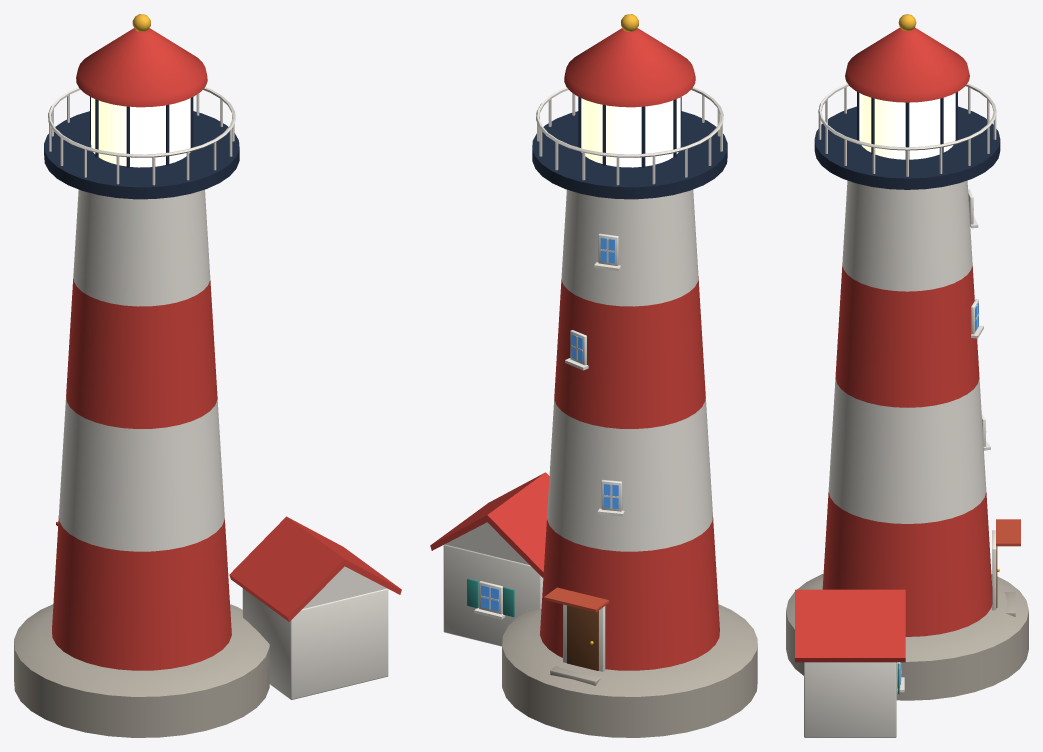
Rendered from leuchtturm.glb.
3 views of the same model, side by side, from view 1: azimuth 30°, elevation 25°; view 2: azimuth 150°, elevation 25°; view 3: azimuth 270°, elevation 25° (orthographic). The views are drawn at different scales.
Visible parts, largest first — view 1: leuchtturm_lod0; view 2: leuchtturm_lod0; view 3: leuchtturm_lod0.
Boxes of the visible parts, x1,y1,x2,y2 form: leuchtturm_lod0: (14, 14, 401, 737); leuchtturm_lod0: (430, 14, 757, 737); leuchtturm_lod0: (786, 14, 1028, 737).
Size of what is drawn, in the model's own units: 9.55 by 19.6 by 6.8.
